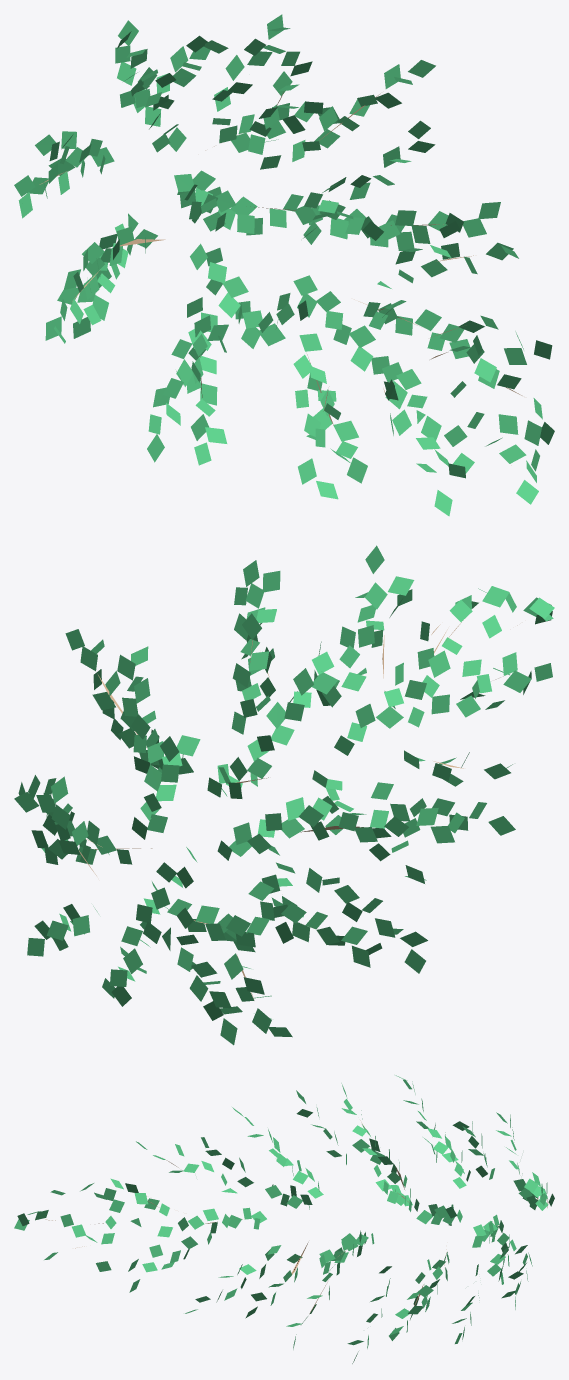
Rendered from saplingTree_low.glb.
3 views of the same model, one above another, from view 1: azimuth 30°, elevation 25°; view 2: azimuth 150°, elevation 25°; view 3: azimuth 270°, elevation 25° (orthographic). The views are drawn at different scales.
Visible parts, largest first — view 1: saplingTree.001; view 2: saplingTree.001; view 3: saplingTree.001.
Boxes of the visible parts, bbox=[...] form: saplingTree.001: bbox=[14, 14, 554, 516]; saplingTree.001: bbox=[14, 545, 554, 1045]; saplingTree.001: bbox=[14, 1075, 554, 1363].
Size of the model in its own units: 2.14 by 2.22 by 4.03.
